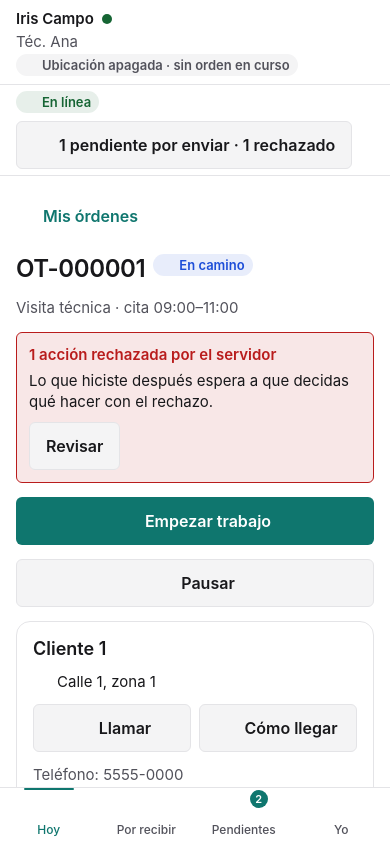
Test case: app de campo (light) › cola con un rechazo: lo muestra con su motivo, retiene lo que sigue de esa orden y deja Rehacer o Descartar
The image size is (390, 844).
Expected: the message with test id "aviso-rechazos" shows "1 acción rechazada por el servidor", [29, 345, 276, 364]
Click the button "Revisar" at (75, 446), box [29, 422, 120, 470]
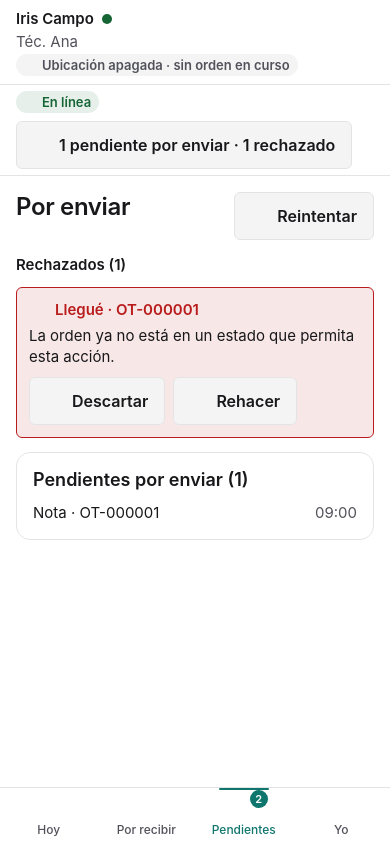
Now the message with test id "rechazo" shows "Llegué · OT-000001", box [55, 300, 199, 319]
Now the message with test id "rechazo" shows "La orden ya no está en un estado que permita esta acción", box [29, 326, 358, 366]
Now the element with test id "cola" shows "Nota · OT-000001", box [16, 452, 374, 540]
Click the button "Rehacer" at (235, 401), box [173, 377, 297, 425]
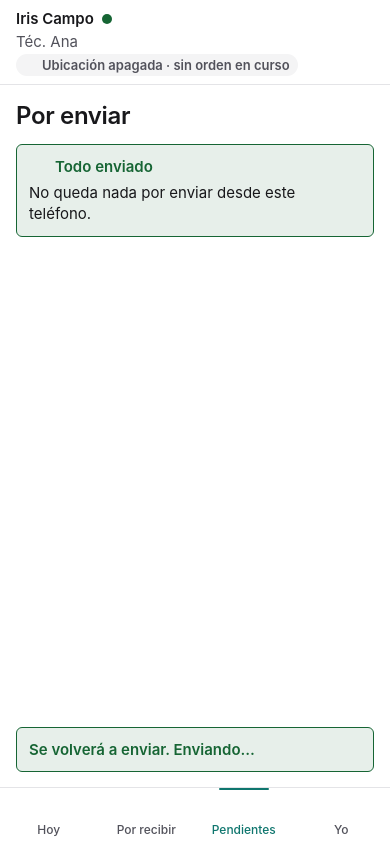
Expected: the element named "En línea, todo enviado" is shown, [102, 14, 112, 24]
Now the element with test id "barra-conexion" is gone
